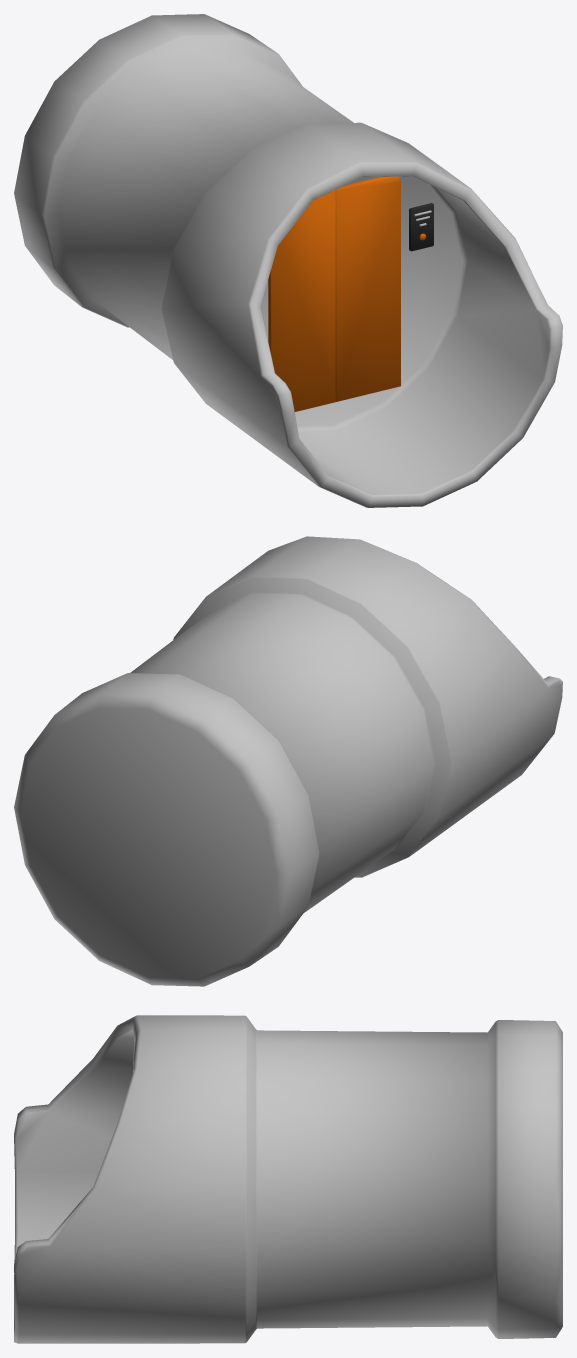
3 views of the same model, one above another, from view 1: azimuth 30°, elevation 25°; view 2: azimuth 150°, elevation 25°; view 3: azimuth 270°, elevation 25° (orthographic).
Parts seen in each view (by area): view 1: Section_door_key.003; view 2: Section_door_key.003; view 3: Section_door_key.003.
Part boxes in pixels (bbox=[...]): Section_door_key.003: bbox=[14, 14, 562, 507]; Section_door_key.003: bbox=[14, 536, 562, 986]; Section_door_key.003: bbox=[14, 1015, 562, 1343].
Bounding box in the file's own units: 3.65 × 3.58 × 5.95.
